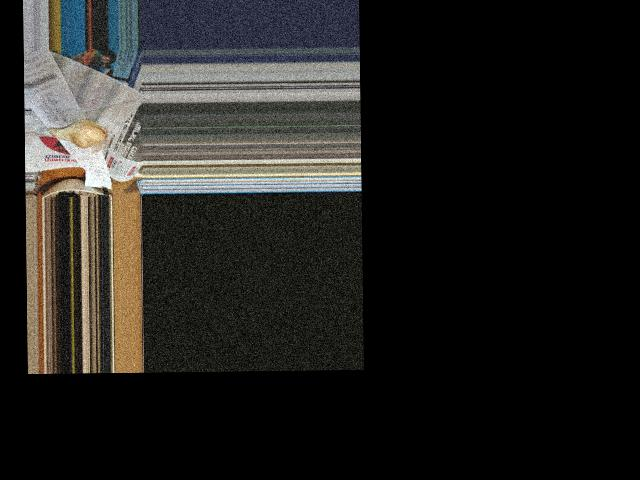onion: (52, 113, 106, 150)
